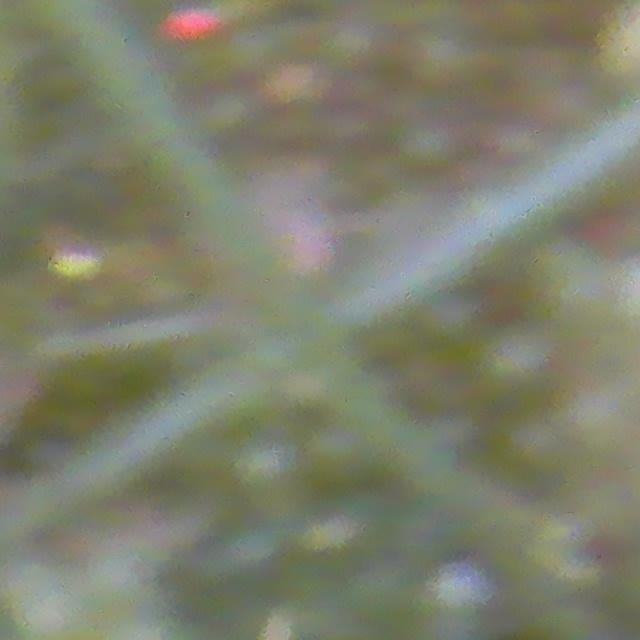SeaGrape: (7, 569, 93, 640), (476, 320, 555, 397), (231, 429, 301, 497)
